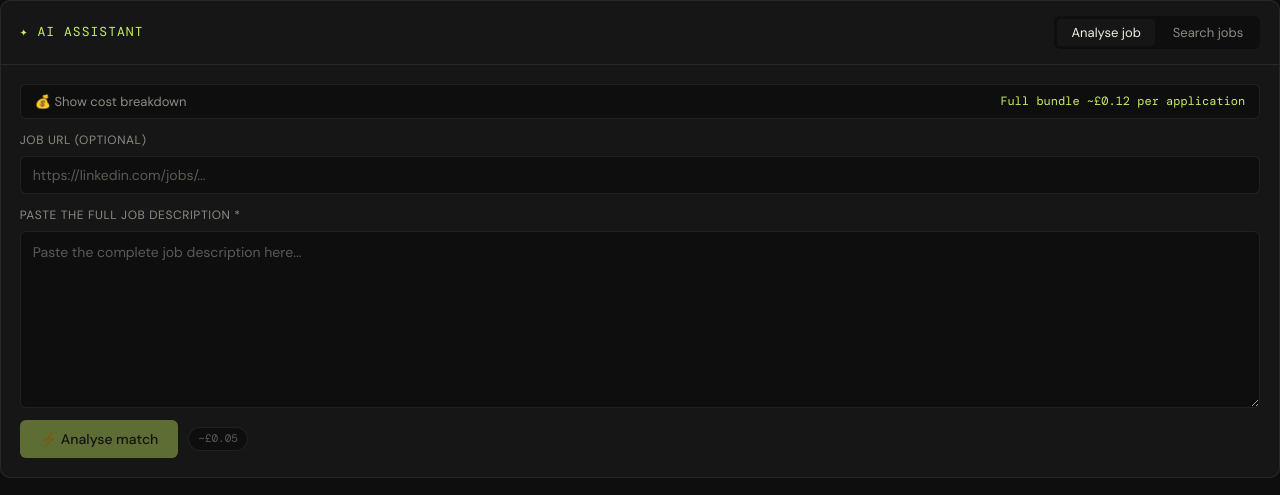
Test case: AIPanel › search jobs › shows an error when job search fails
Click the button "Search jobs" at (1208,32), box x1=1159 y1=19 x2=1257 y2=46
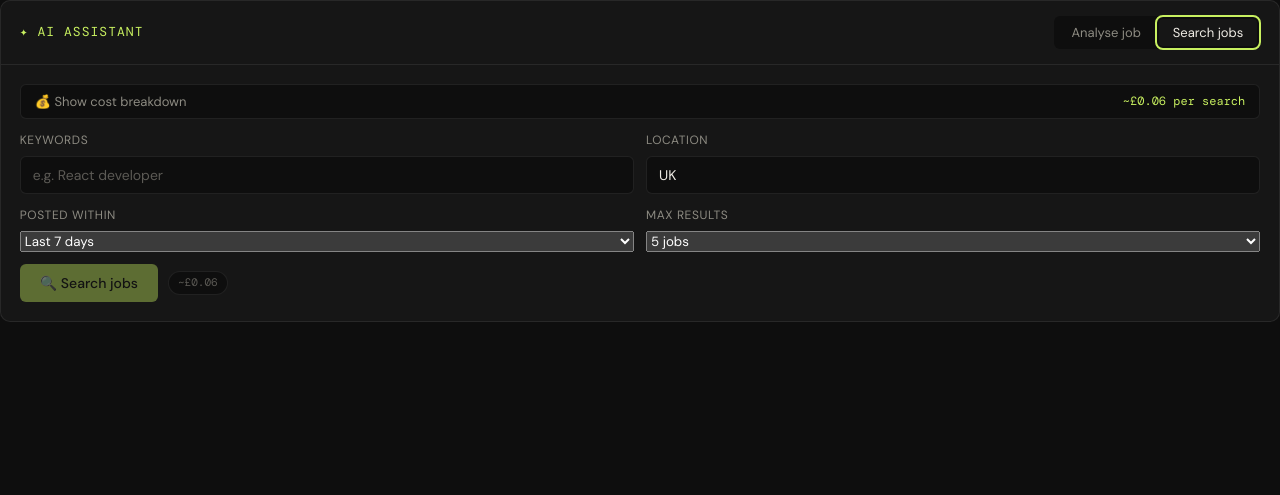
Type "React developer" into the field with placeholder "e.g. React developer" at (327,175), box x1=20 y1=156 x2=634 y2=194
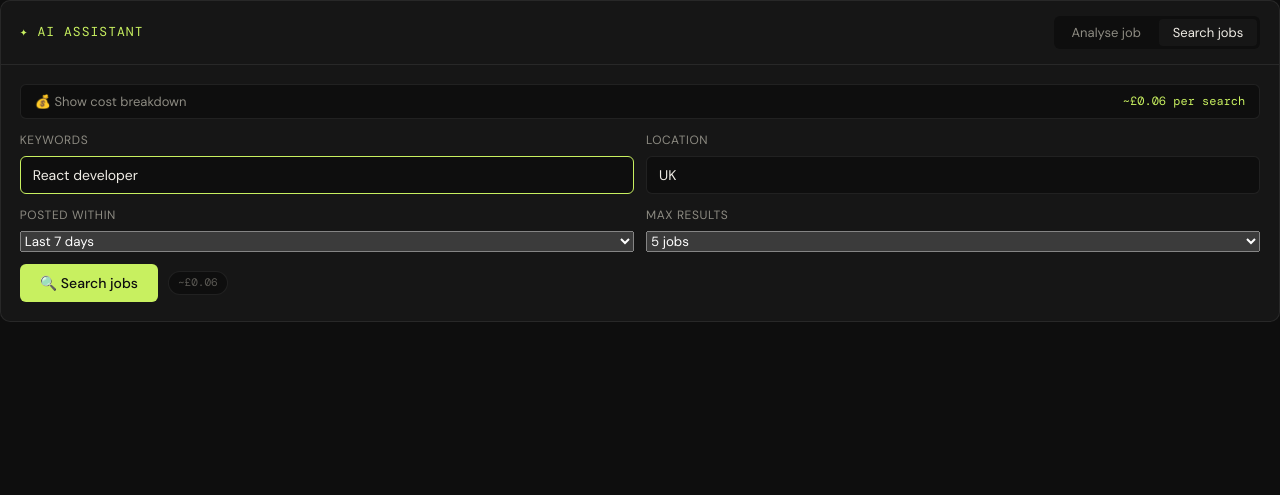
Click the button "🔍 Search jobs" at (89,283), box x1=20 y1=264 x2=158 y2=302
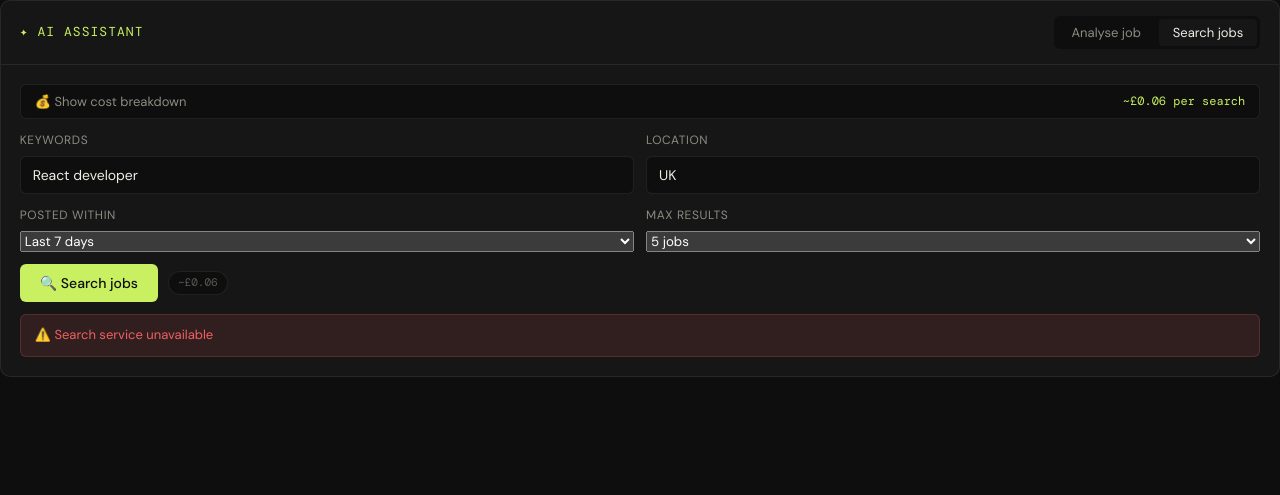
Expected: the text "⚠️ Search service unavailable" is shown, x1=20 y1=314 x2=1260 y2=357
